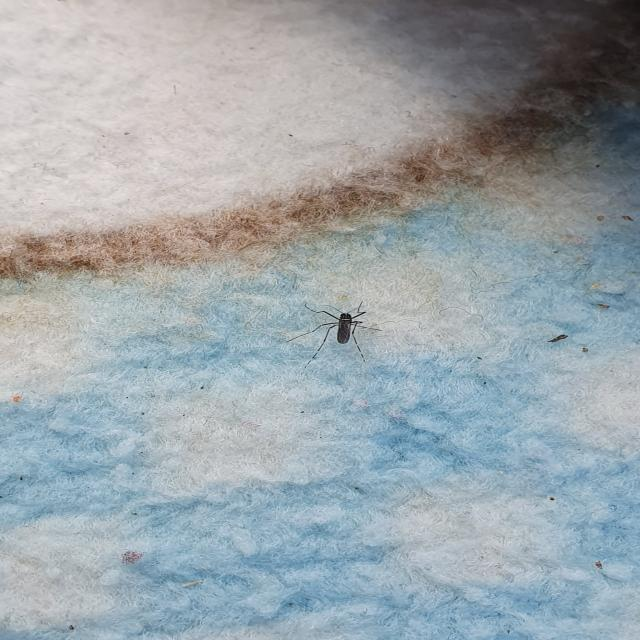albopictus: (278, 297, 397, 370)
